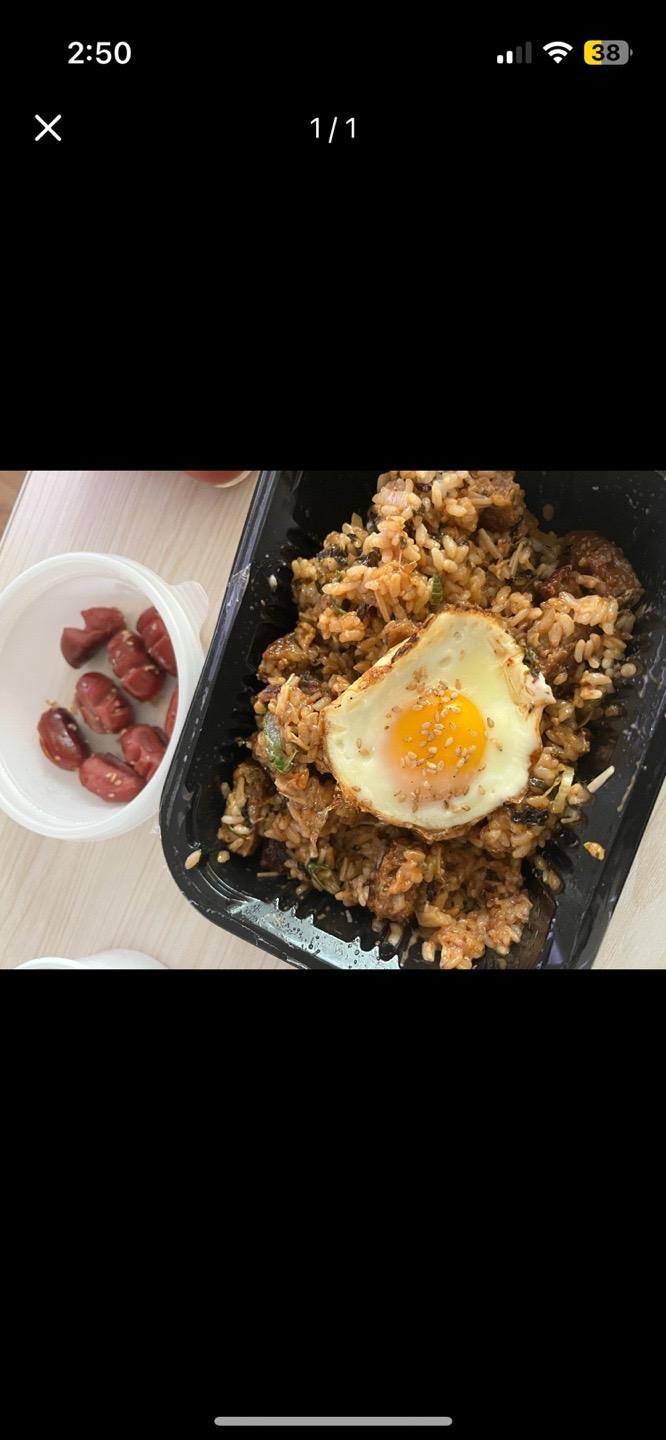Lunch Box: (160, 471, 665, 969), (0, 553, 208, 840)
